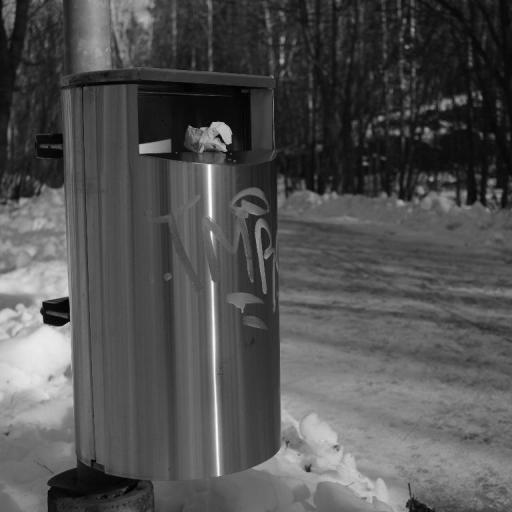trash-can: (58, 54, 296, 489)
